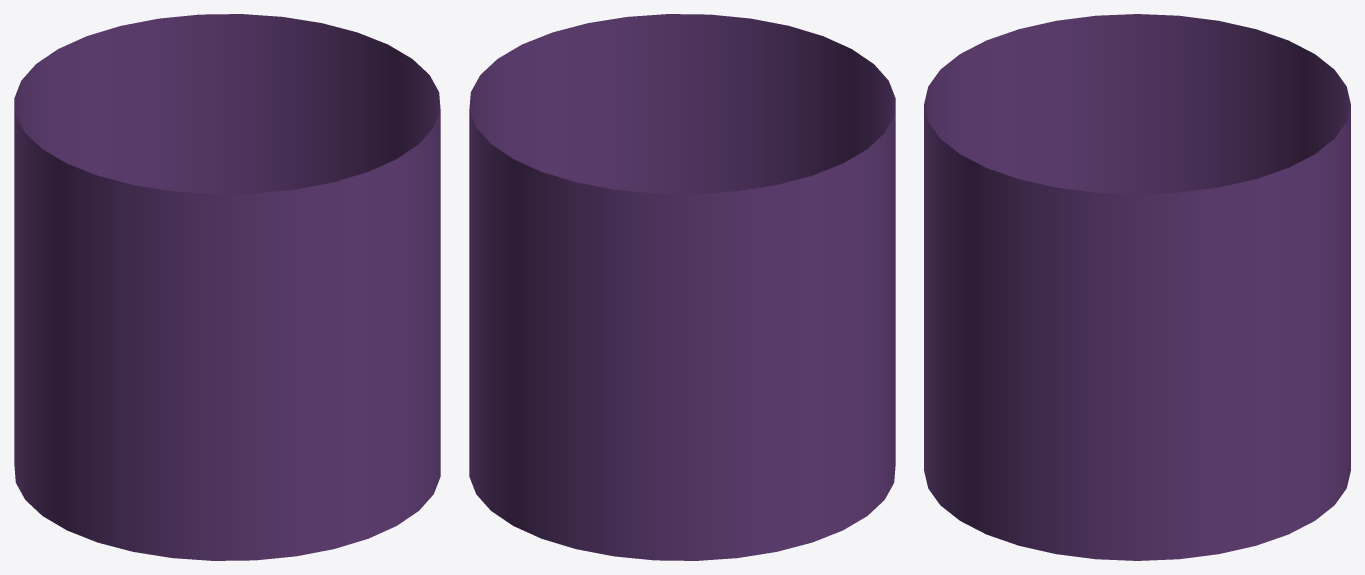
File: Colisor.glb
3 views of the same model, side by side, from view 1: azimuth 30°, elevation 25°; view 2: azimuth 150°, elevation 25°; view 3: azimuth 270°, elevation 25° (orthographic).
Visible parts, largest first — view 1: Colisor; view 2: Colisor; view 3: Colisor.
Boxes of the visible parts, x1,y1,x2,y2 form: Colisor: (14, 14, 440, 560); Colisor: (469, 14, 895, 560); Colisor: (924, 14, 1350, 560).
Size of the model in its own units: 4.88 by 4.63 by 4.88.
1 material, 1 textured.
